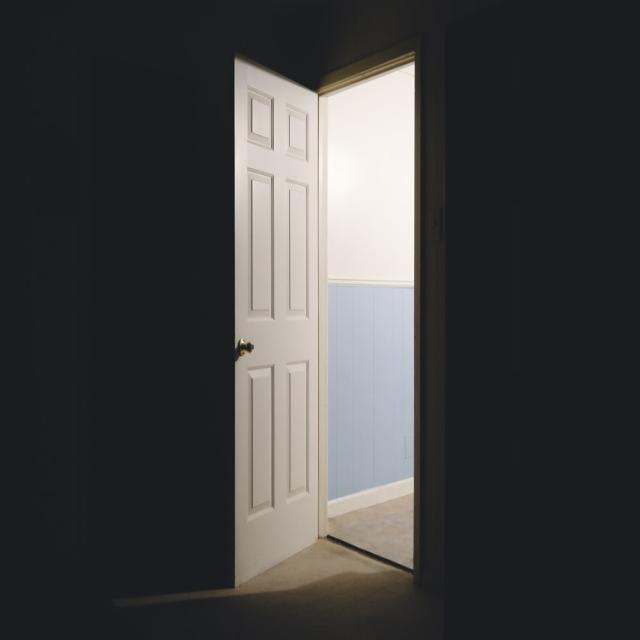OpenDoor: (288, 55, 425, 589)
